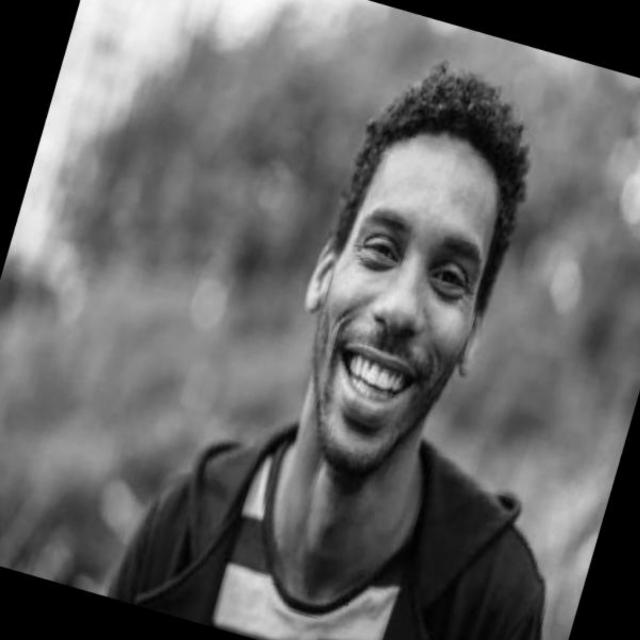Happy: (308, 105, 493, 485)
